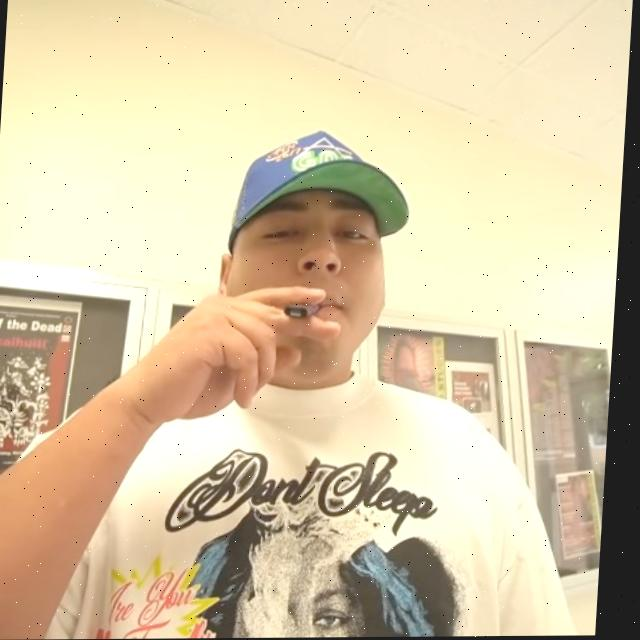vape: (285, 303, 326, 322)
